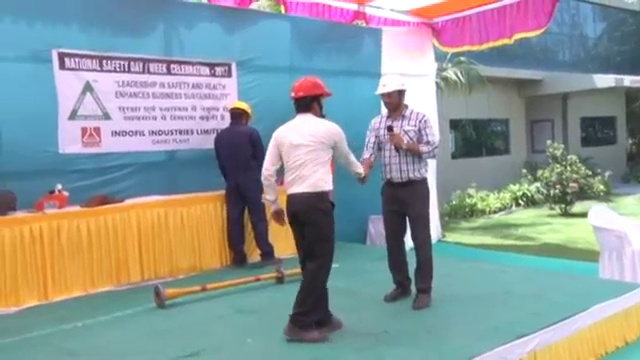helmet: (286, 74, 334, 98), (373, 73, 408, 96), (228, 97, 256, 121)
helmet_on: (286, 74, 335, 123), (373, 72, 409, 118), (226, 96, 255, 130)
person: (259, 74, 365, 345), (362, 72, 440, 311), (213, 96, 284, 268)
